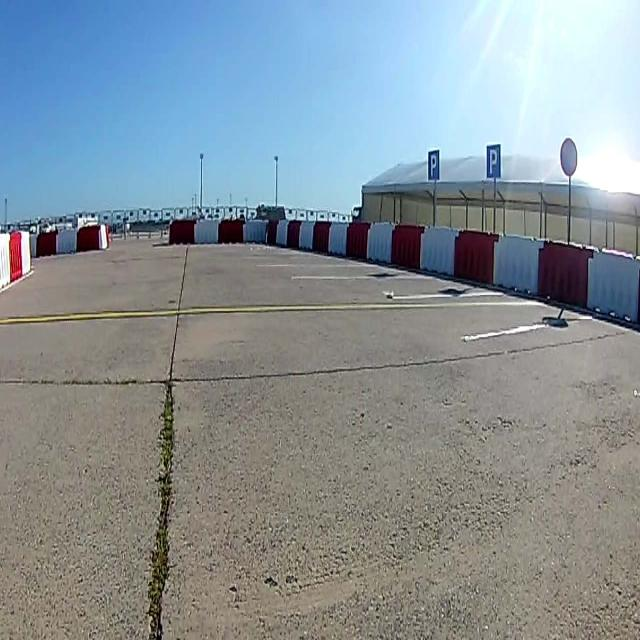park: (486, 145, 500, 176), (428, 151, 440, 180)
